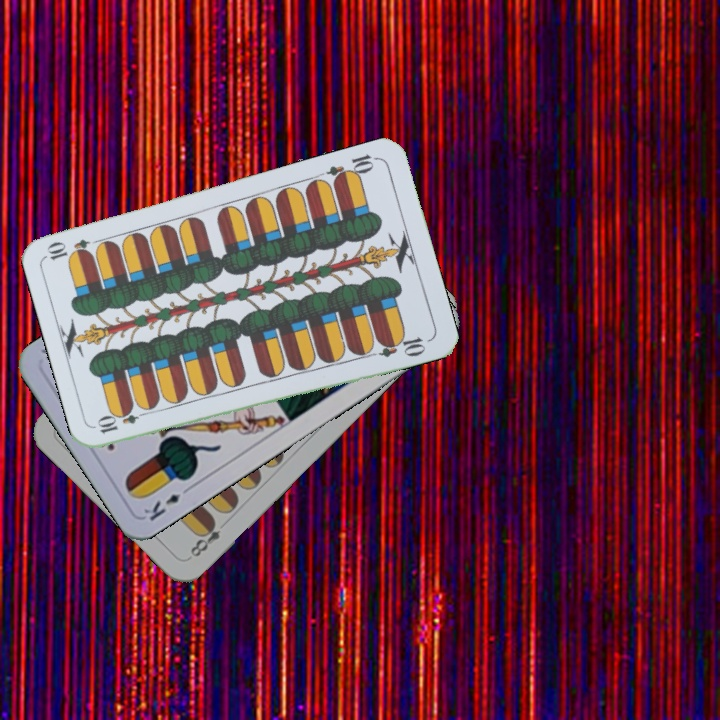E10: (323, 150, 381, 187), (93, 405, 152, 436)
E8: (185, 515, 224, 561)
EK: (139, 482, 195, 524)
